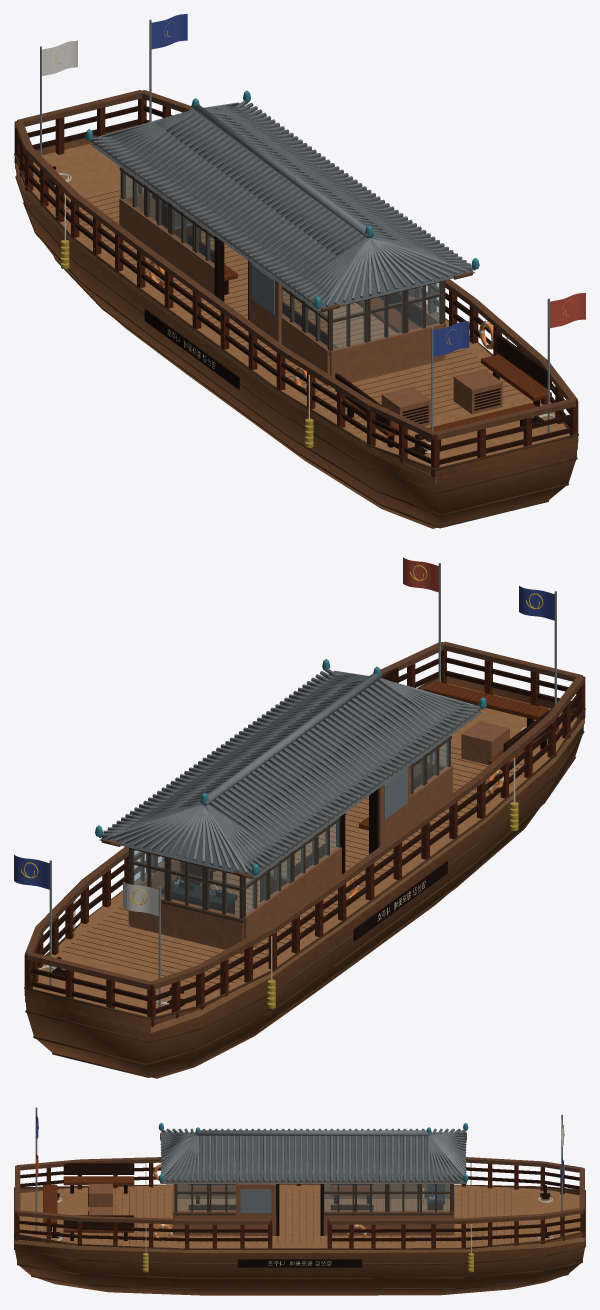
The model's file is najuho.glb.
The picture shows the model from 3 angles, top to bottom: view 1: azimuth 30°, elevation 25°; view 2: azimuth 150°, elevation 25°; view 3: azimuth 270°, elevation 25°; orthographic projection. The views are drawn at different scales.
Parts seen in each view (by area): view 1: v79_batch_Y79_roof_11_0_0, timber_hull_najuho, ground_floor_boat_deck, hanok_hip_roof, v79_batch_Y79_wood_3_0_0, v79_batch_Museum_734a30_0_0, v79_batch_Y79_plaster_6_0_0, v79_batch_Museum_986443_0_0, v79_batch_Y79_wood_2_0_0, v79_batch_Y79_wood_7_0_0, v79_batch_Y79_wood_8_0_0, v79_batch_Museum_818174_0_0 (+11 smaller); view 2: v79_batch_Y79_roof_11_0_0, timber_hull_najuho, ground_floor_boat_deck, hanok_hip_roof, v79_batch_Y79_wood_3_0_0, v79_batch_Museum_734a30_0_0, v79_batch_Museum_986443_0_0, v79_batch_Y79_plaster_6_0_0, v79_batch_Y79_wood_2_0_0, v79_batch_Y79_wood_7_0_0, v79_batch_Museum_818174_0_0, v79_batch_Y79_wood_8_0_0 (+12 smaller); view 3: timber_hull_najuho, ground_floor_boat_deck, hanok_hip_roof, v79_batch_Y79_roof_11_0_0, v79_batch_Museum_734a30_0_0, v79_batch_Y79_wood_3_0_0, v79_batch_Y79_wood_2_0_0, v79_batch_Y79_plaster_6_0_0, v79_batch_Museum_986443_0_0, v79_batch_Y79_wood_7_0_0, v79_batch_Museum_ad794d_0_0, v79_batch_Y79_wood_8_0_0 (+13 smaller).
Boxes of the visible parts, box(x1,y1,x2,y2) form: v79_batch_Y79_roof_11_0_0: box(89, 100, 475, 308); timber_hull_najuho: box(16, 125, 577, 528); ground_floor_boat_deck: box(15, 143, 577, 483); hanok_hip_roof: box(89, 106, 474, 311); v79_batch_Y79_wood_3_0_0: box(15, 90, 577, 440); v79_batch_Museum_734a30_0_0: box(18, 106, 572, 464); v79_batch_Y79_plaster_6_0_0: box(119, 192, 445, 386); v79_batch_Museum_986443_0_0: box(14, 90, 578, 477); v79_batch_Y79_wood_2_0_0: box(14, 124, 578, 528); v79_batch_Y79_wood_7_0_0: box(119, 167, 445, 355); v79_batch_Y79_wood_8_0_0: box(248, 261, 502, 429); v79_batch_Museum_818174_0_0: box(98, 102, 467, 306); v79_batch_Y79_roof_11_0_0: box(99, 669, 482, 875); timber_hull_najuho: box(25, 676, 583, 1078); ground_floor_boat_deck: box(25, 683, 584, 1032); hanok_hip_roof: box(99, 674, 482, 878); v79_batch_Y79_wood_3_0_0: box(25, 641, 584, 989); v79_batch_Museum_734a30_0_0: box(31, 657, 581, 1014); v79_batch_Museum_986443_0_0: box(24, 642, 585, 1026); v79_batch_Y79_plaster_6_0_0: box(128, 760, 452, 953); v79_batch_Y79_wood_2_0_0: box(24, 676, 585, 1077); v79_batch_Y79_wood_7_0_0: box(128, 736, 451, 922); v79_batch_Museum_818174_0_0: box(107, 670, 474, 873); v79_batch_Y79_wood_8_0_0: box(378, 721, 509, 847); timber_hull_najuho: box(14, 1187, 585, 1295); ground_floor_boat_deck: box(14, 1184, 585, 1252); hanok_hip_roof: box(161, 1134, 465, 1183); v79_batch_Y79_roof_11_0_0: box(160, 1128, 466, 1182); v79_batch_Museum_734a30_0_0: box(19, 1163, 580, 1241); v79_batch_Y79_wood_3_0_0: box(15, 1133, 584, 1243); v79_batch_Y79_wood_2_0_0: box(14, 1184, 585, 1289); v79_batch_Y79_plaster_6_0_0: box(173, 1184, 453, 1235); v79_batch_Museum_986443_0_0: box(15, 1163, 584, 1248); v79_batch_Y79_wood_7_0_0: box(174, 1184, 453, 1215); v79_batch_Museum_ad794d_0_0: box(43, 1176, 373, 1232); v79_batch_Y79_wood_8_0_0: box(88, 1183, 275, 1235).
Size of the model in its own units: 5.8 by 6.05 by 21.06.
Materials: 36 (16 with a texture image).
